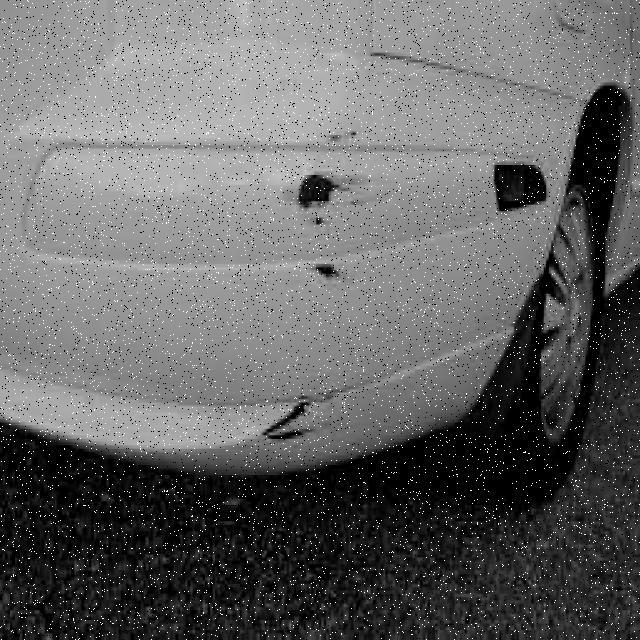car damage: (290, 126, 382, 294), (255, 381, 349, 447)
